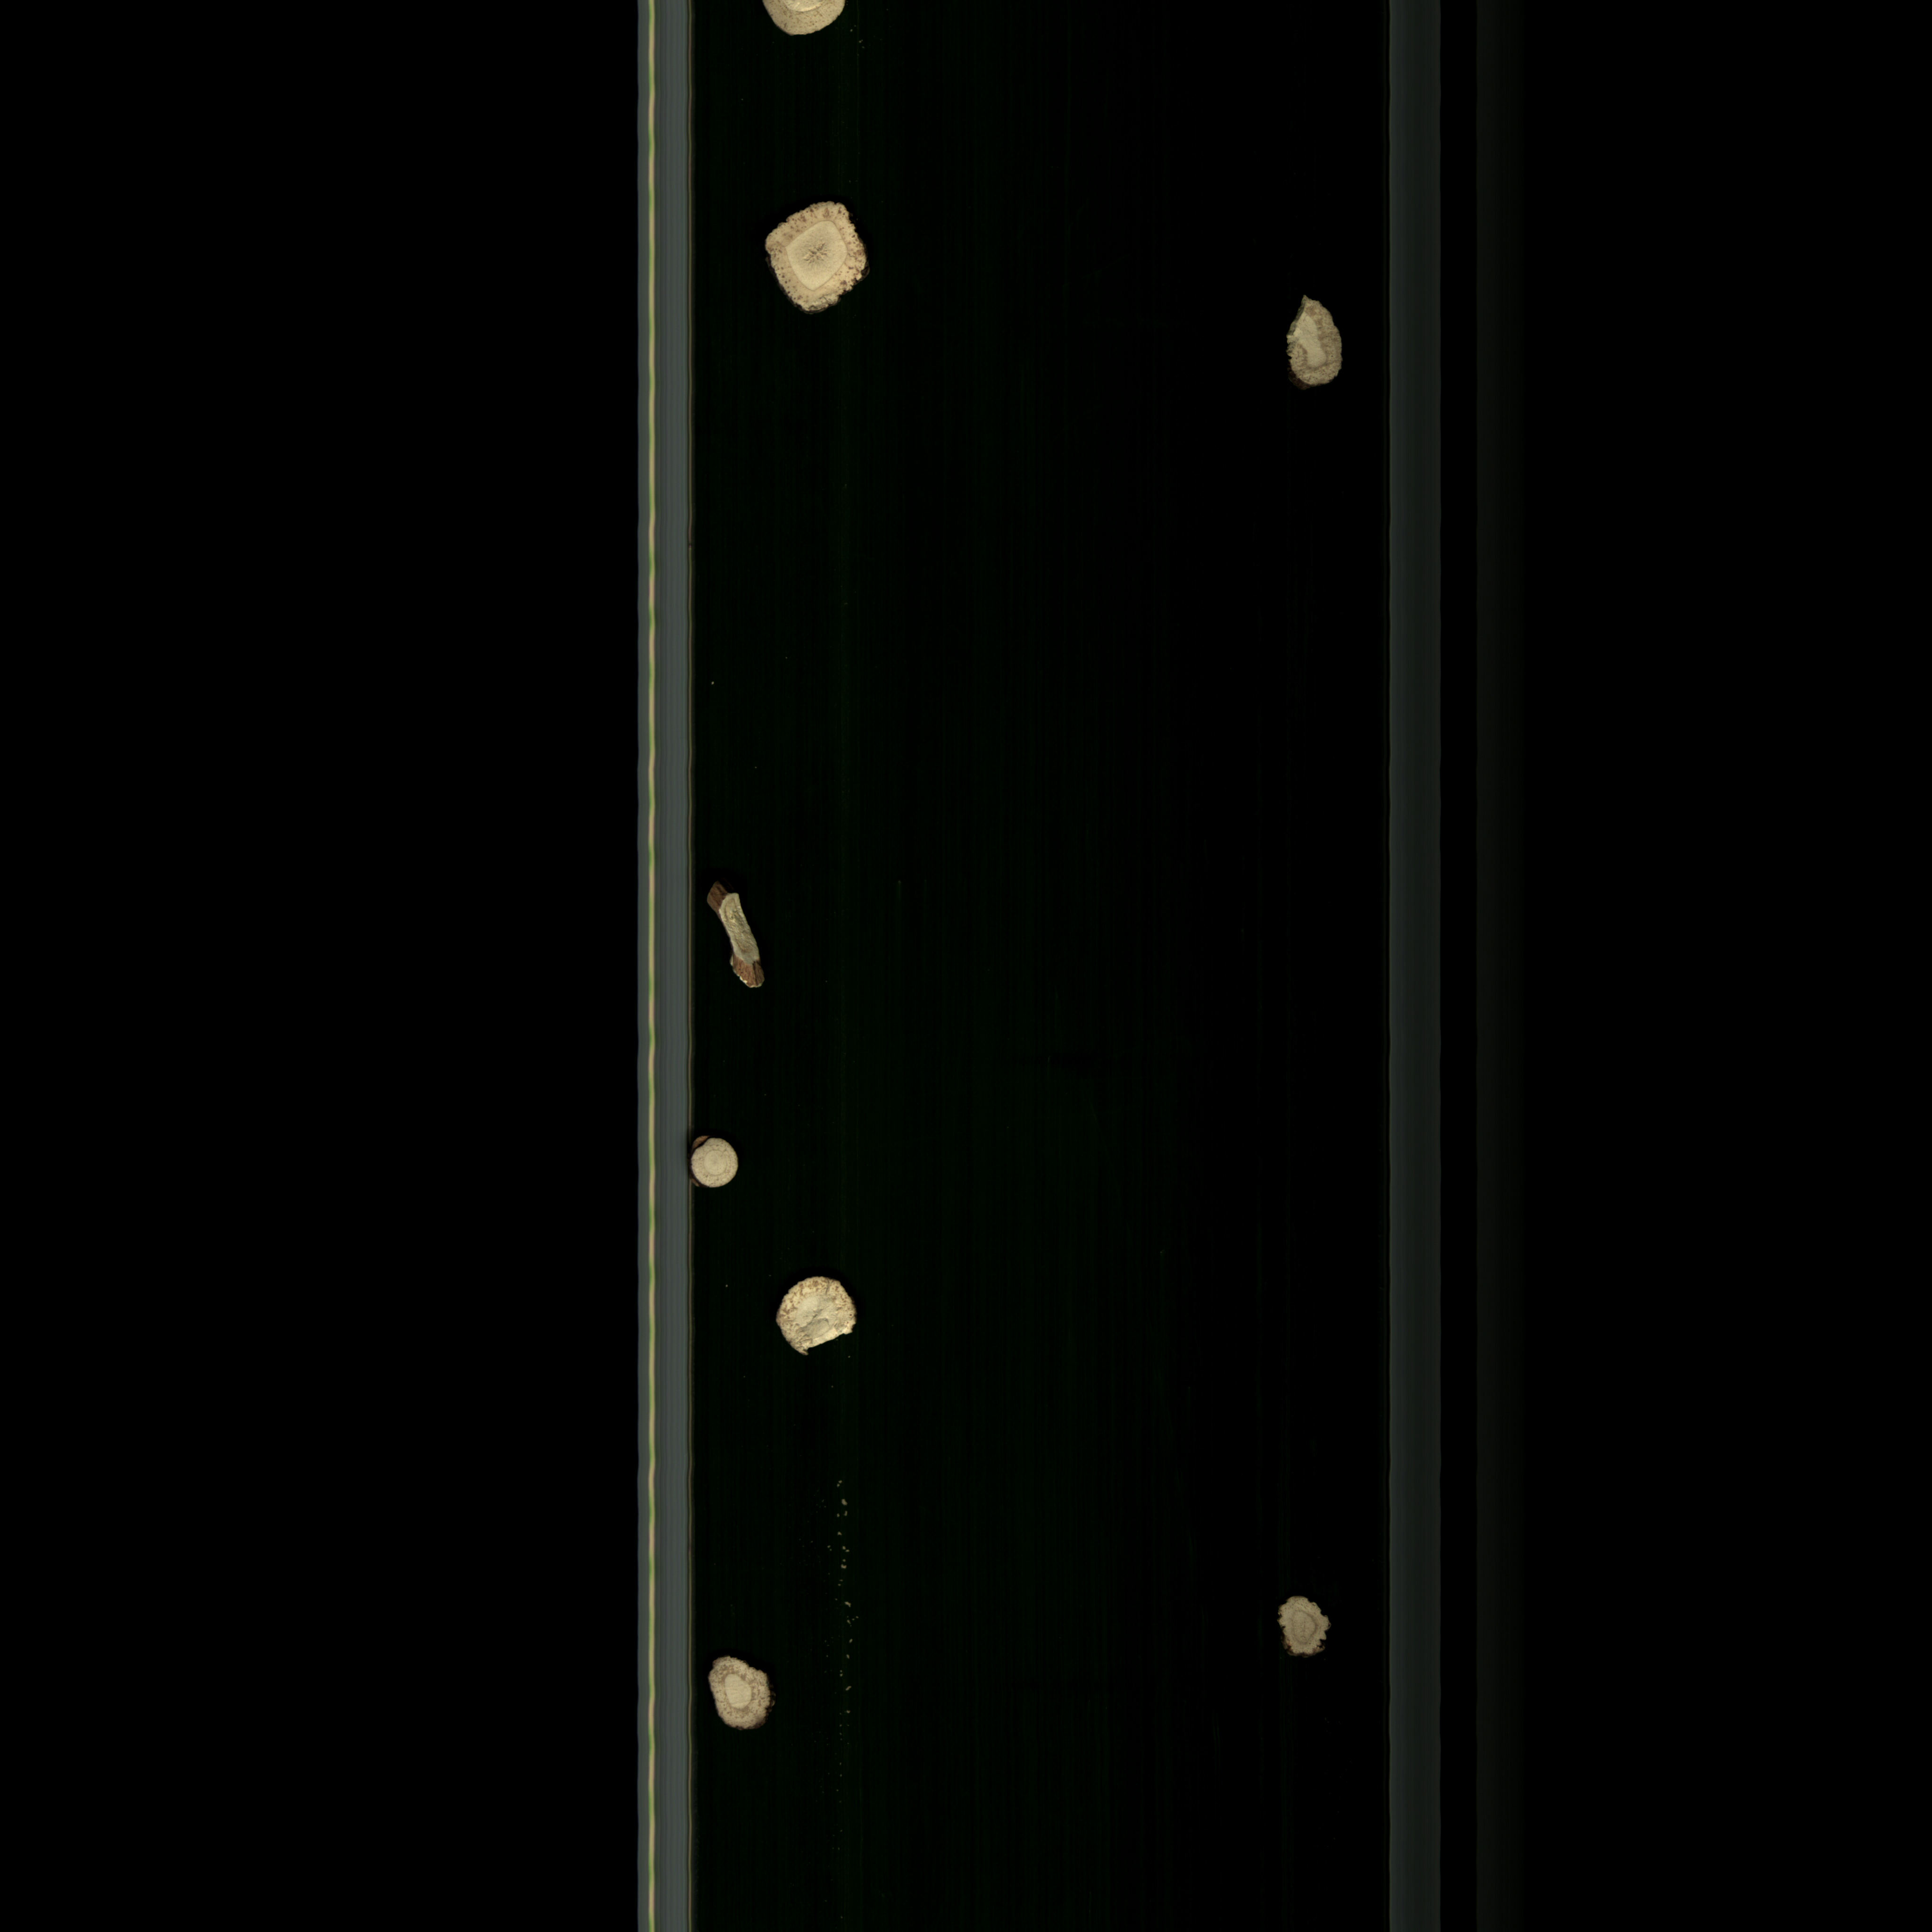bark: (704, 874, 768, 1000)
moldy: (757, 198, 879, 318), (770, 1270, 870, 1366), (1276, 290, 1359, 396), (701, 1645, 786, 1746), (1269, 1589, 1338, 1667)
